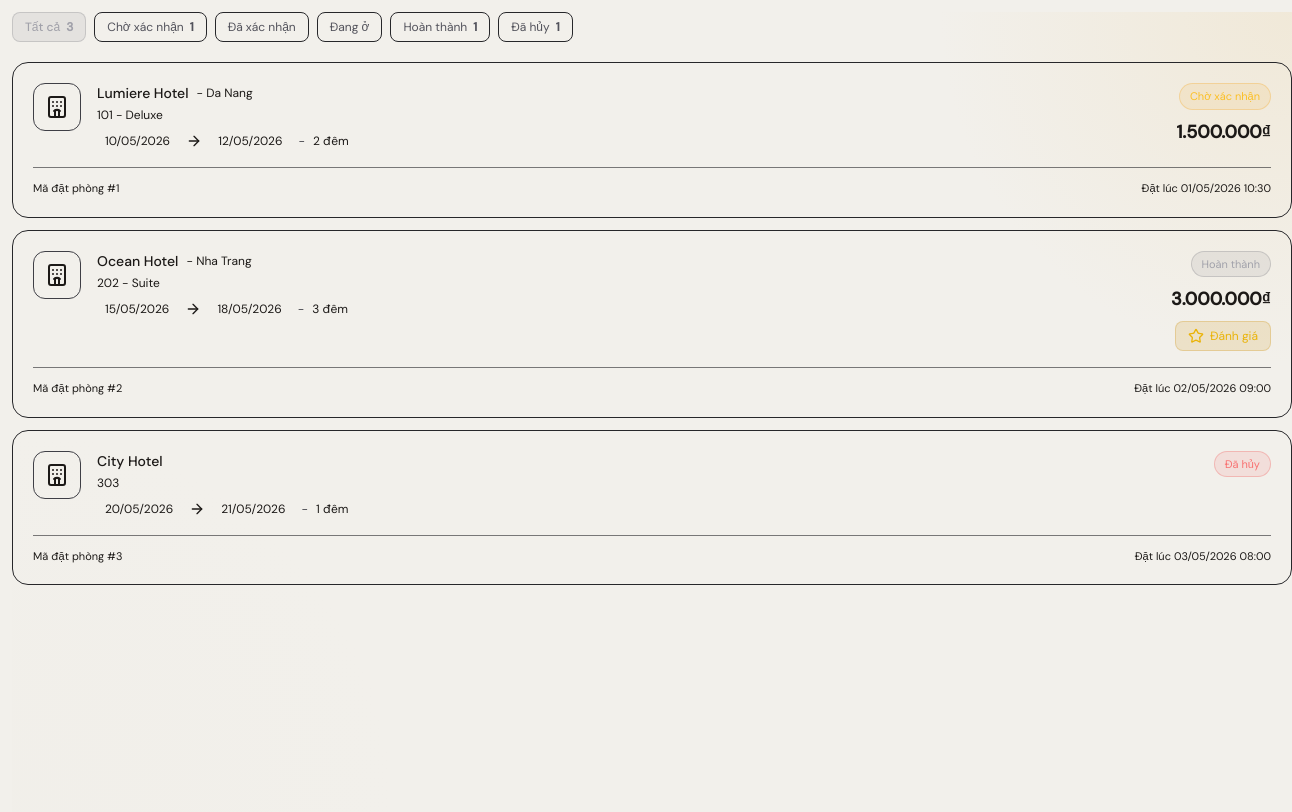
BookingHistory › should filter bookings by completed status
This screenshot has width=1292, height=812.
Click the button "Hoàn thành 1": [440, 27] box 390,12 -> 490,42
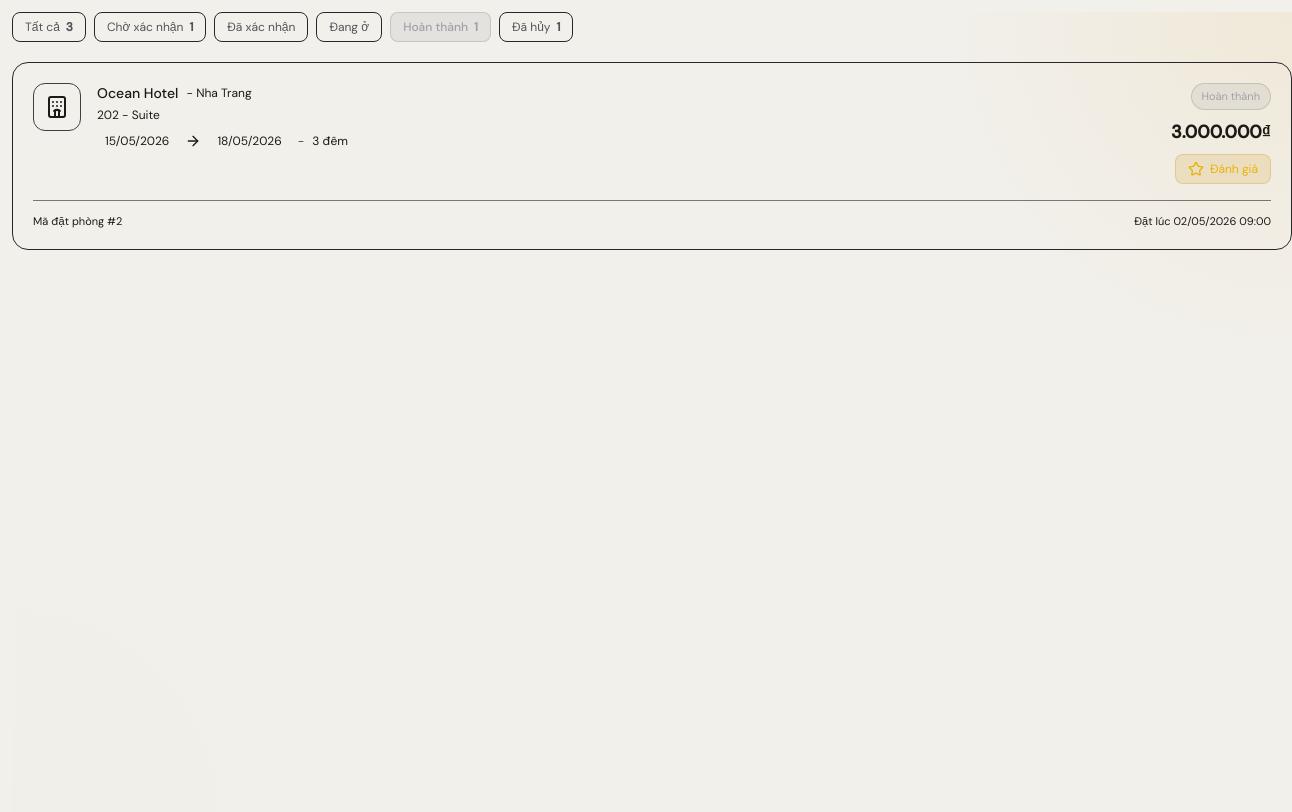
Check: the text "Ocean Hotel" is shown, box 97,83 -> 178,103
Check: the text "Lumiere Hotel" is gone
Check: the text "City Hotel" is gone
